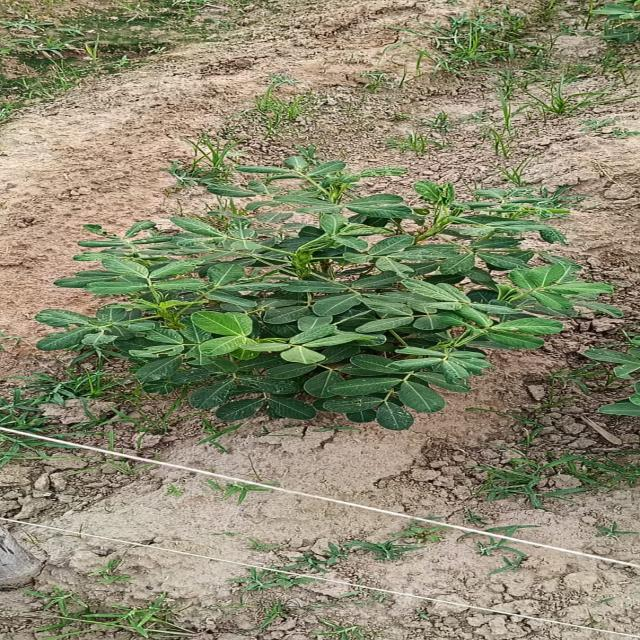plant: (34, 157, 619, 430)
